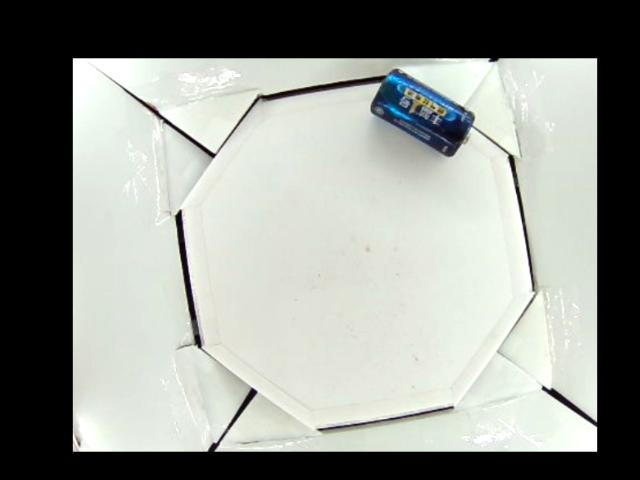Battery: (368, 69, 475, 155)
